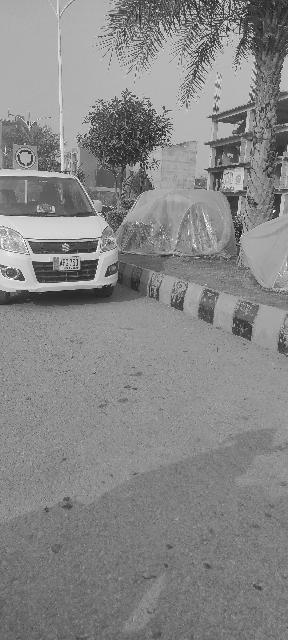Number: (57, 260, 78, 266)
